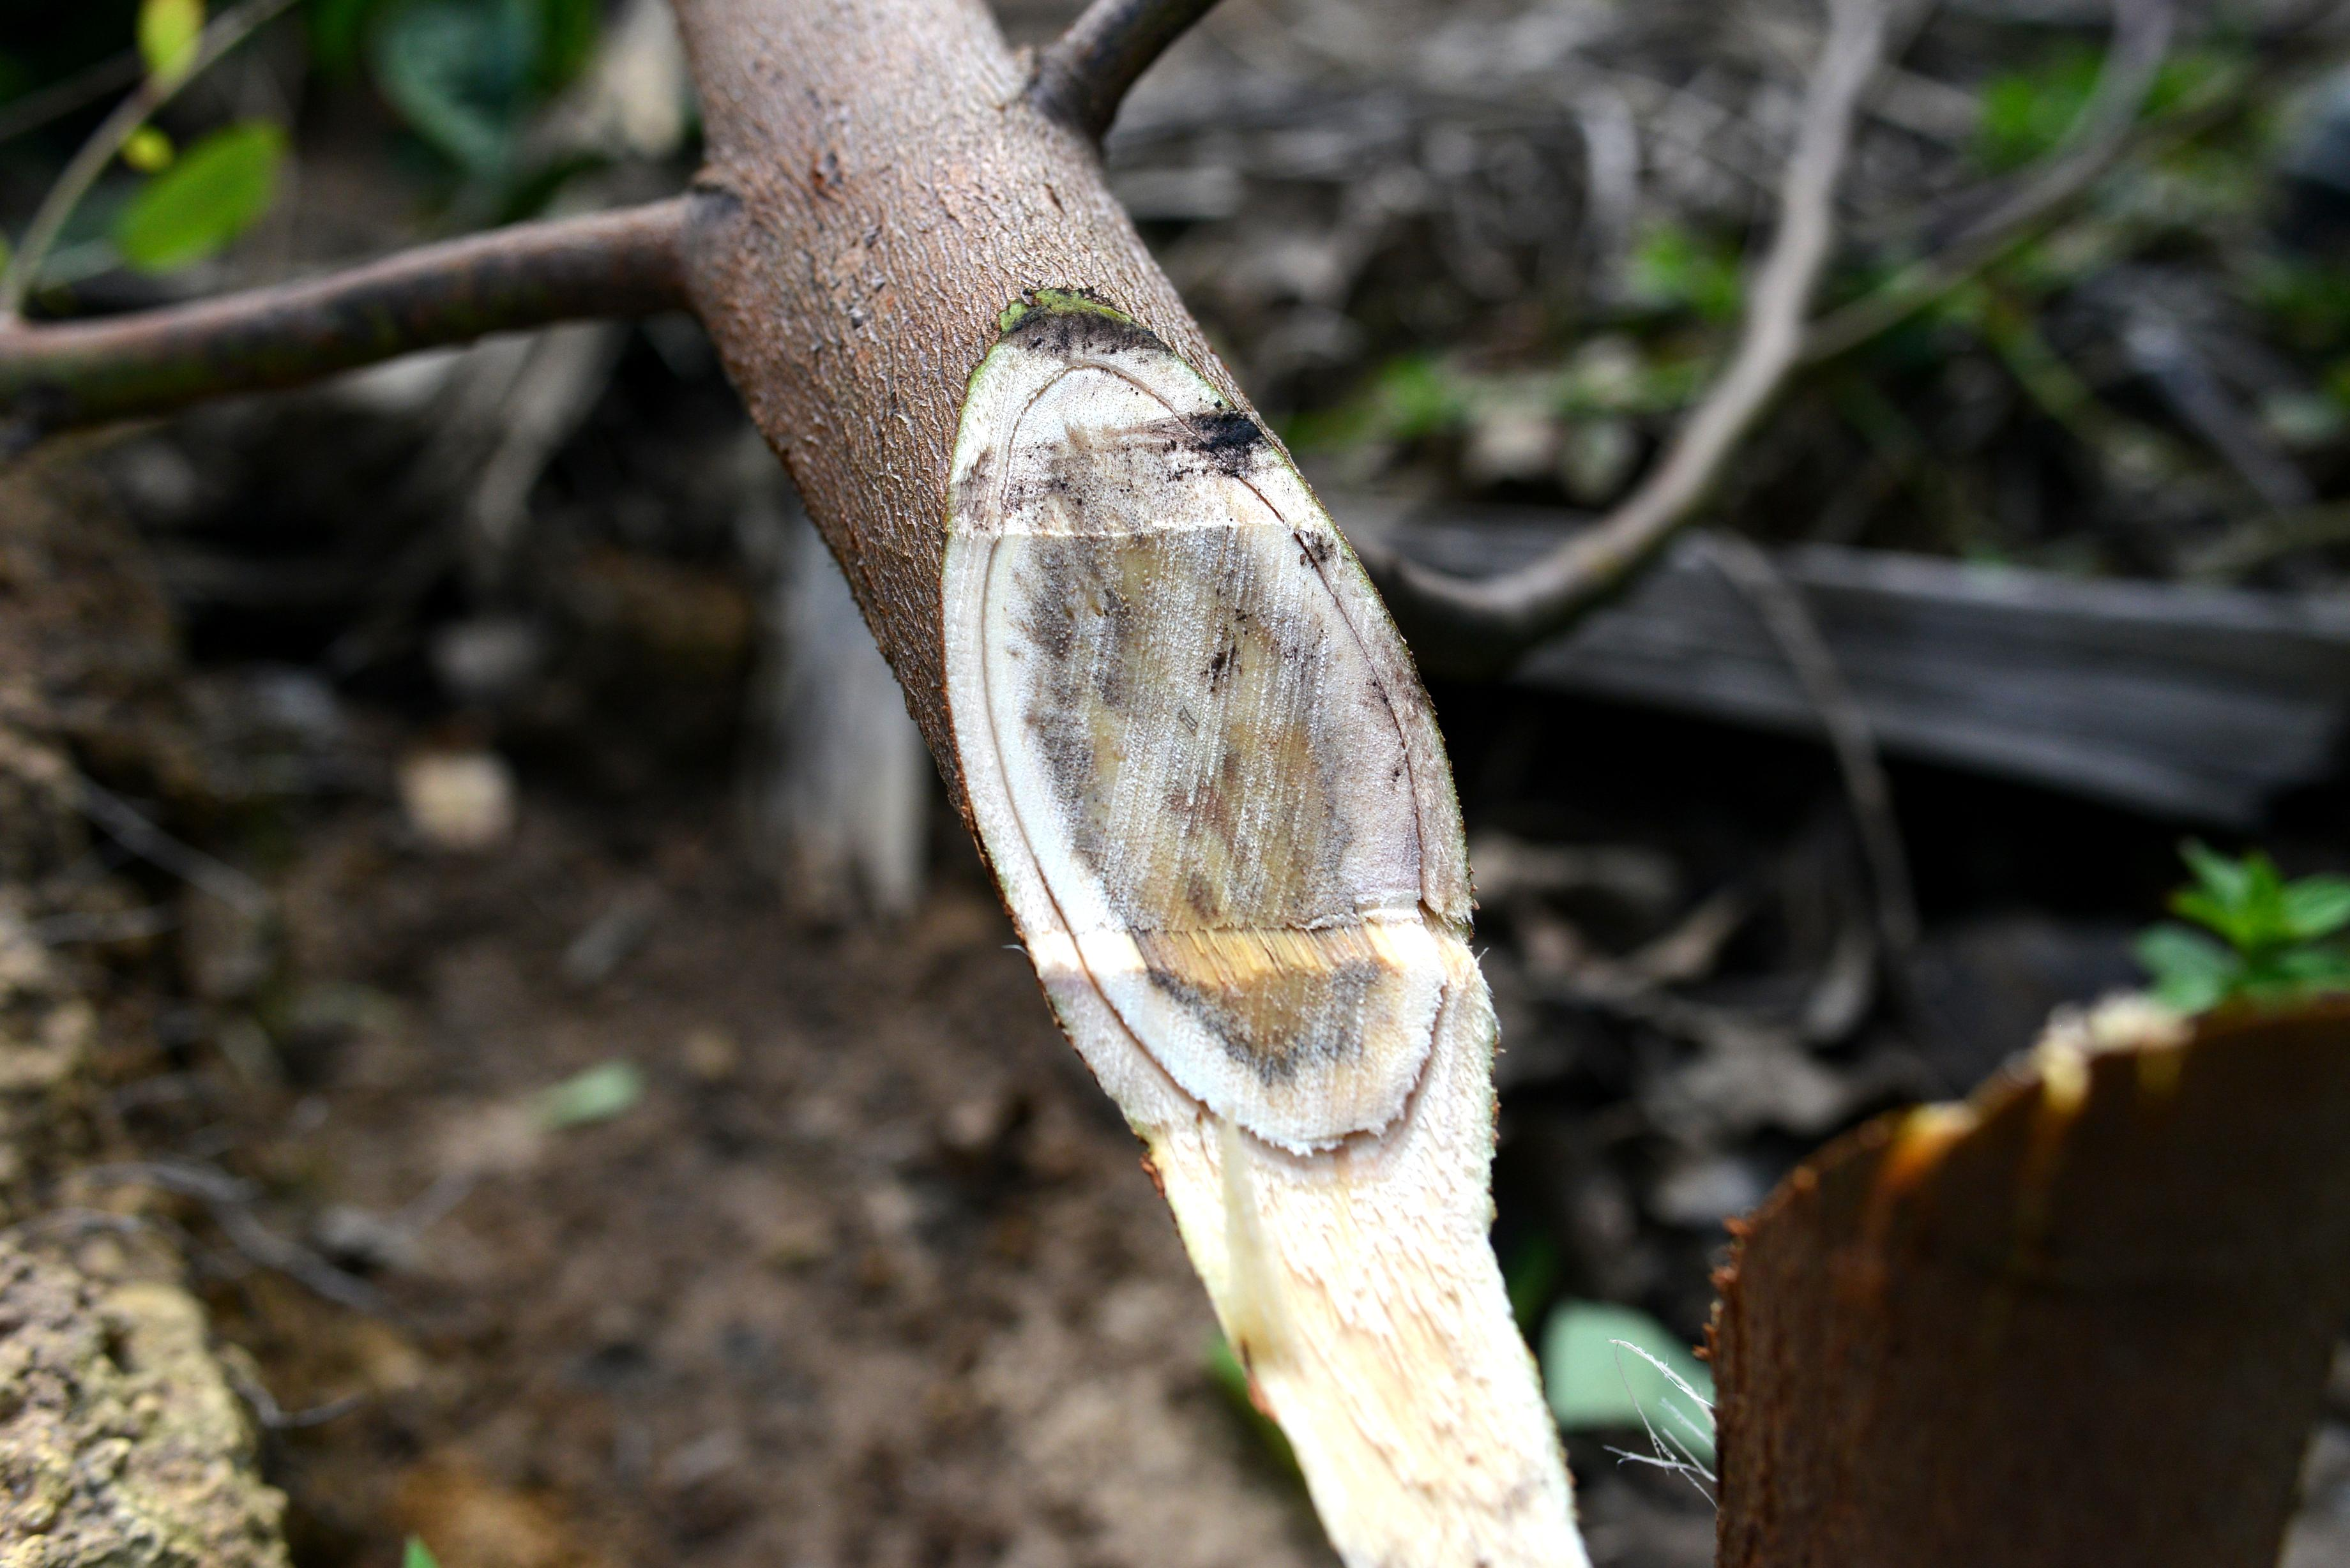Ralstonia: (1239, 539, 1346, 896), (1134, 556, 1221, 884), (1008, 569, 1111, 838), (1036, 444, 1255, 544), (1269, 962, 1382, 1106)
